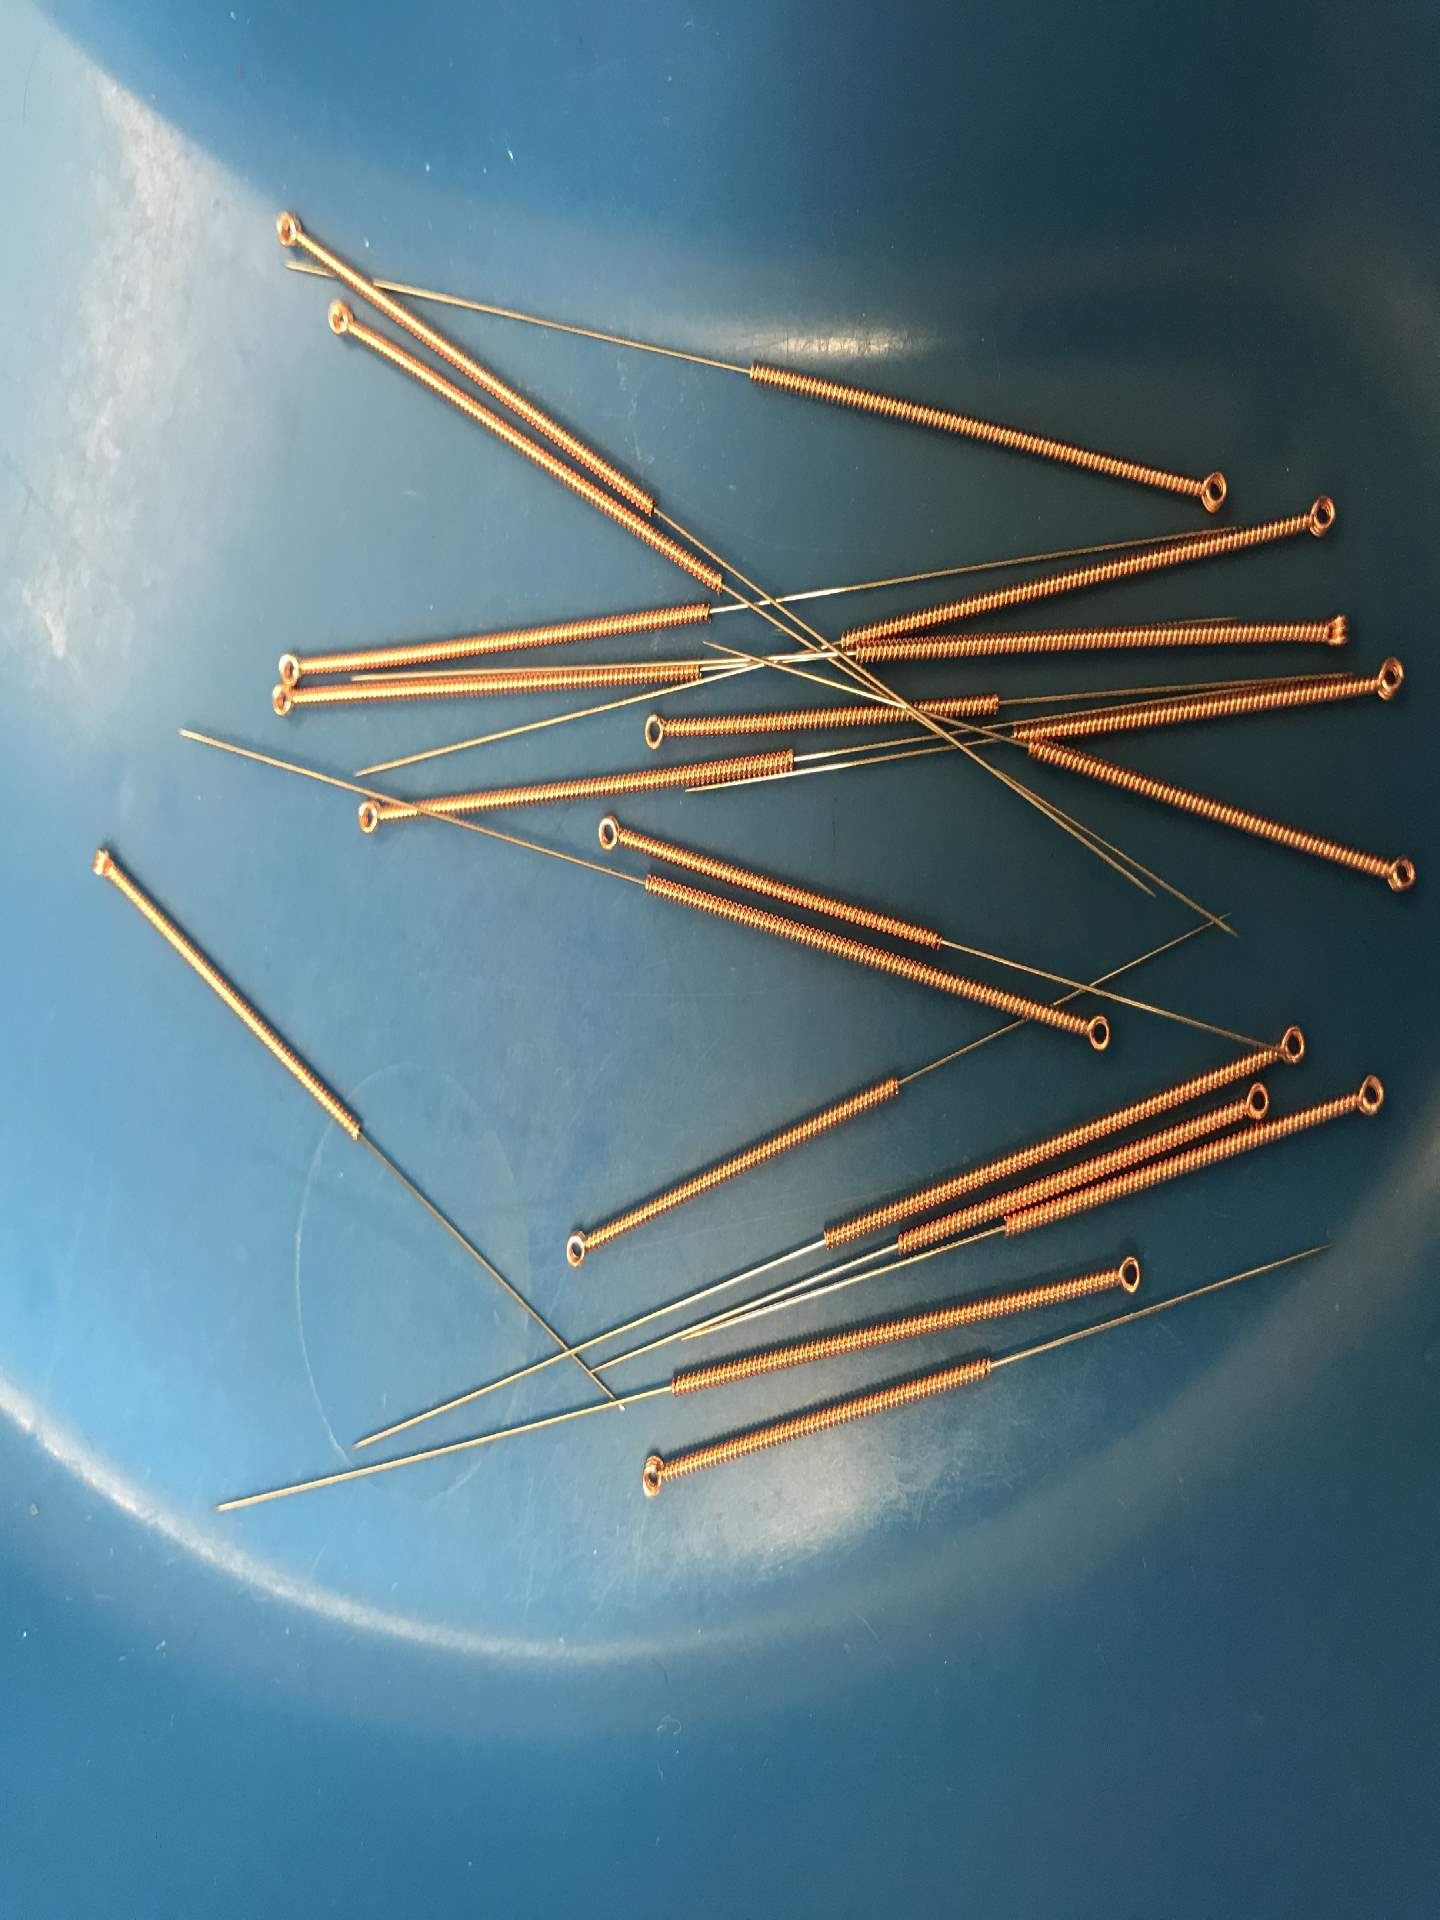needle: (1172, 454, 1233, 519), (1284, 482, 1342, 547), (1360, 649, 1413, 712), (1069, 1001, 1124, 1061), (1342, 1064, 1393, 1128), (1370, 844, 1423, 904), (1302, 602, 1355, 659), (1265, 1016, 1314, 1075), (554, 1222, 601, 1282), (1103, 1244, 1150, 1305), (632, 1442, 678, 1503), (632, 705, 681, 757), (82, 833, 126, 890), (268, 201, 313, 255), (588, 806, 632, 862), (346, 792, 393, 844), (1233, 1076, 1277, 1129), (318, 290, 360, 345), (268, 644, 312, 688), (262, 682, 306, 723)
